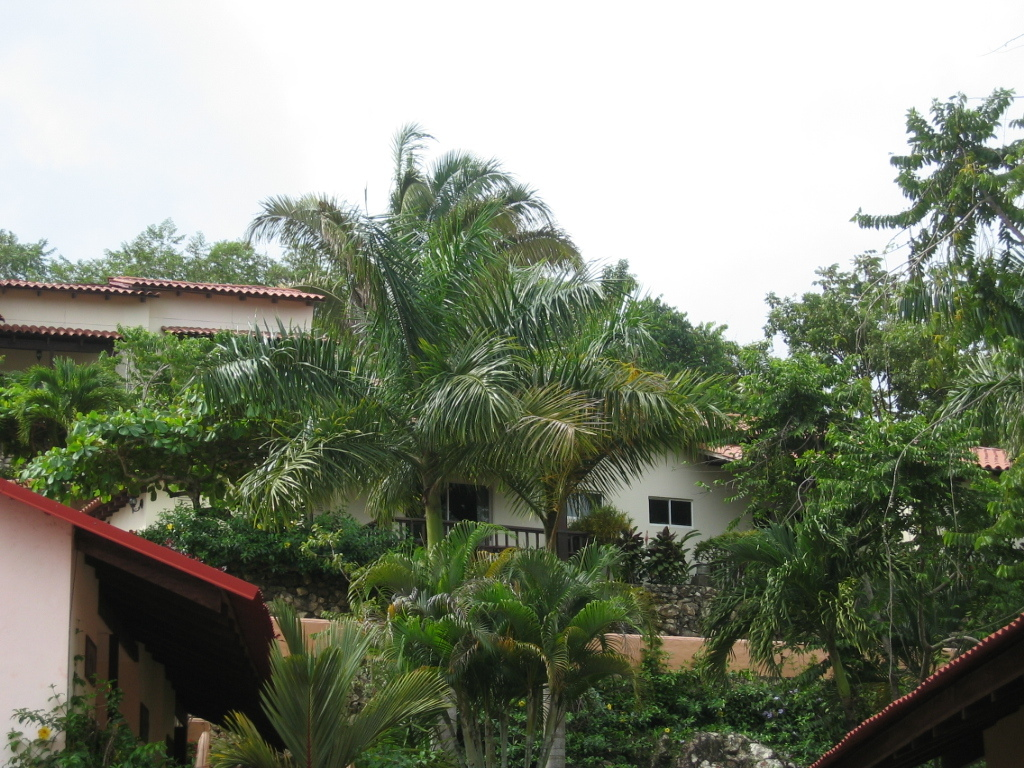Tree: (0, 86, 1024, 768)
